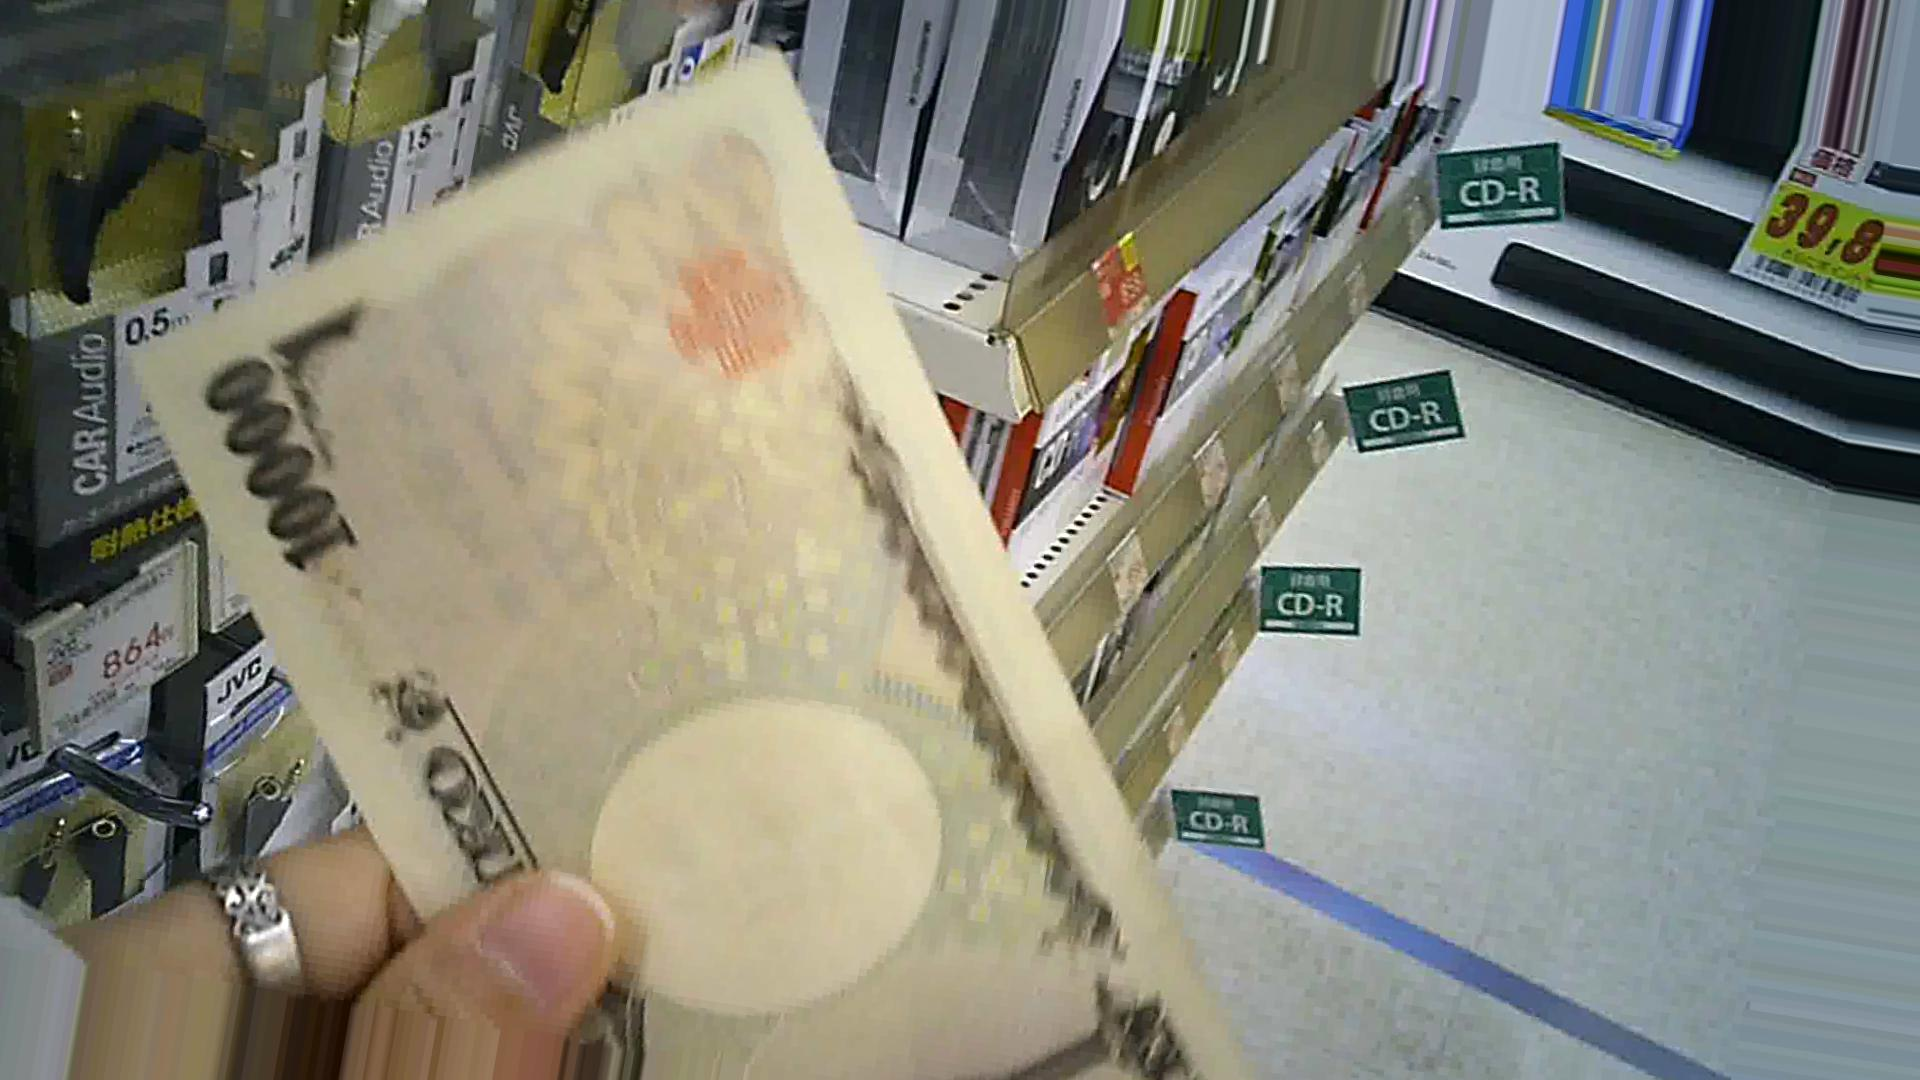10,000 Yen: (127, 94, 1220, 1072)
